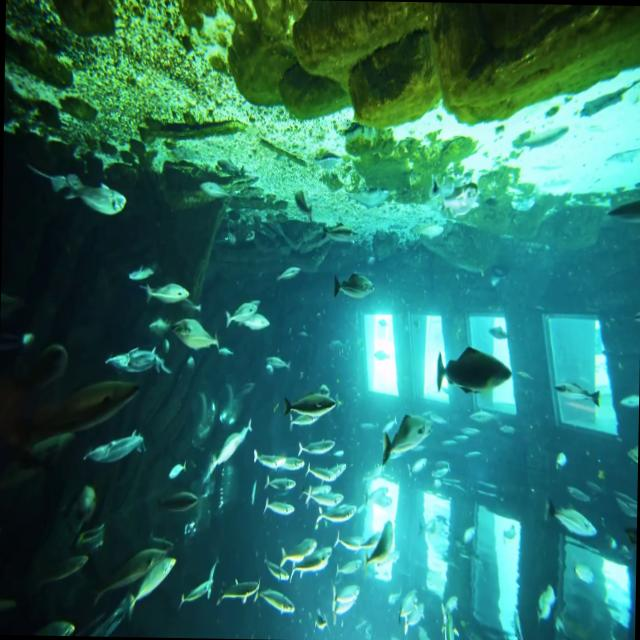fish: (425, 329, 519, 424), (376, 402, 438, 474), (122, 551, 178, 621), (80, 422, 154, 474), (94, 546, 162, 602), (544, 491, 600, 551), (102, 340, 172, 387), (550, 362, 604, 422), (211, 410, 258, 476), (68, 178, 131, 218), (282, 386, 340, 424), (212, 572, 262, 616), (170, 320, 220, 362), (328, 266, 377, 308), (144, 276, 196, 314), (287, 550, 333, 592), (363, 518, 398, 572), (278, 528, 324, 568), (222, 292, 262, 338), (290, 428, 340, 464), (249, 583, 298, 617), (174, 574, 213, 616), (329, 572, 366, 616), (330, 546, 369, 582), (329, 524, 369, 558), (260, 346, 296, 382), (260, 494, 298, 528), (298, 460, 338, 489), (306, 486, 344, 516), (128, 258, 156, 288), (251, 448, 283, 474)
